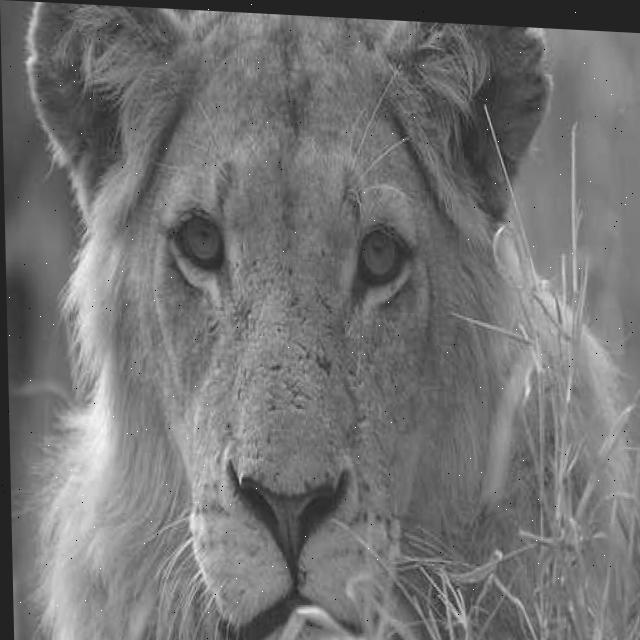Lion: (18, 5, 633, 640)
